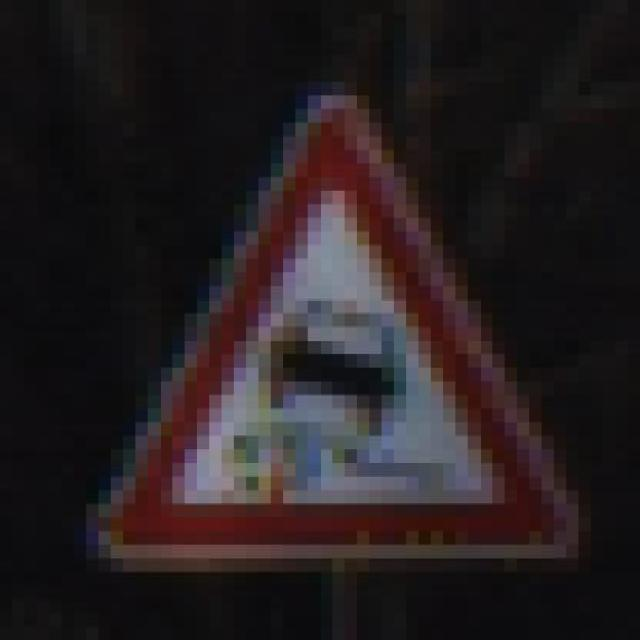Slippery Road Ahead: (74, 82, 578, 572)
